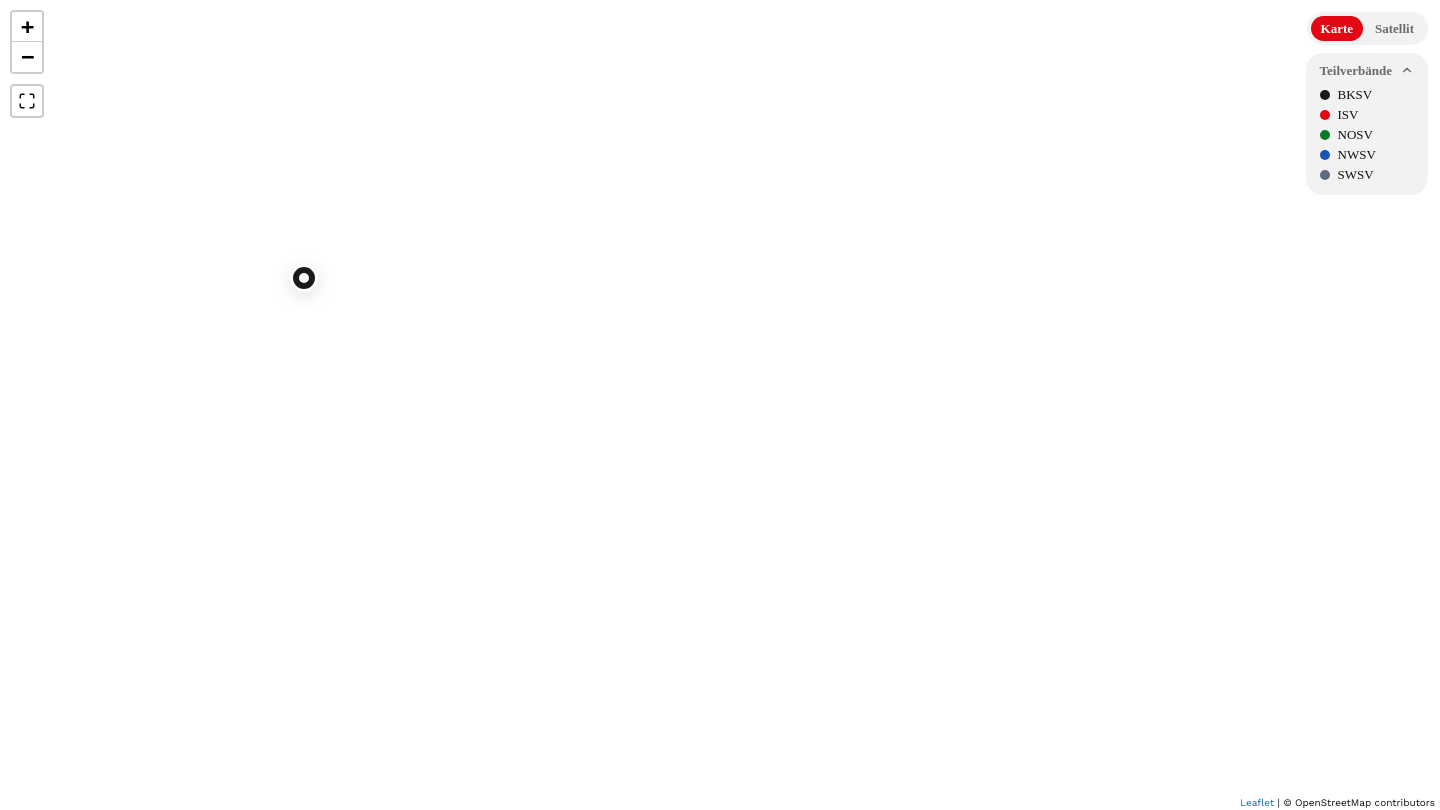
Test case: MapView pin names on hover › shows the name chip on hover where the device can hover
The width and height of the screenshot is (1440, 810).
Hover over the button with class "leaflet-marker-icon" at (304, 278), box x1=290 y1=264 x2=318 y2=292
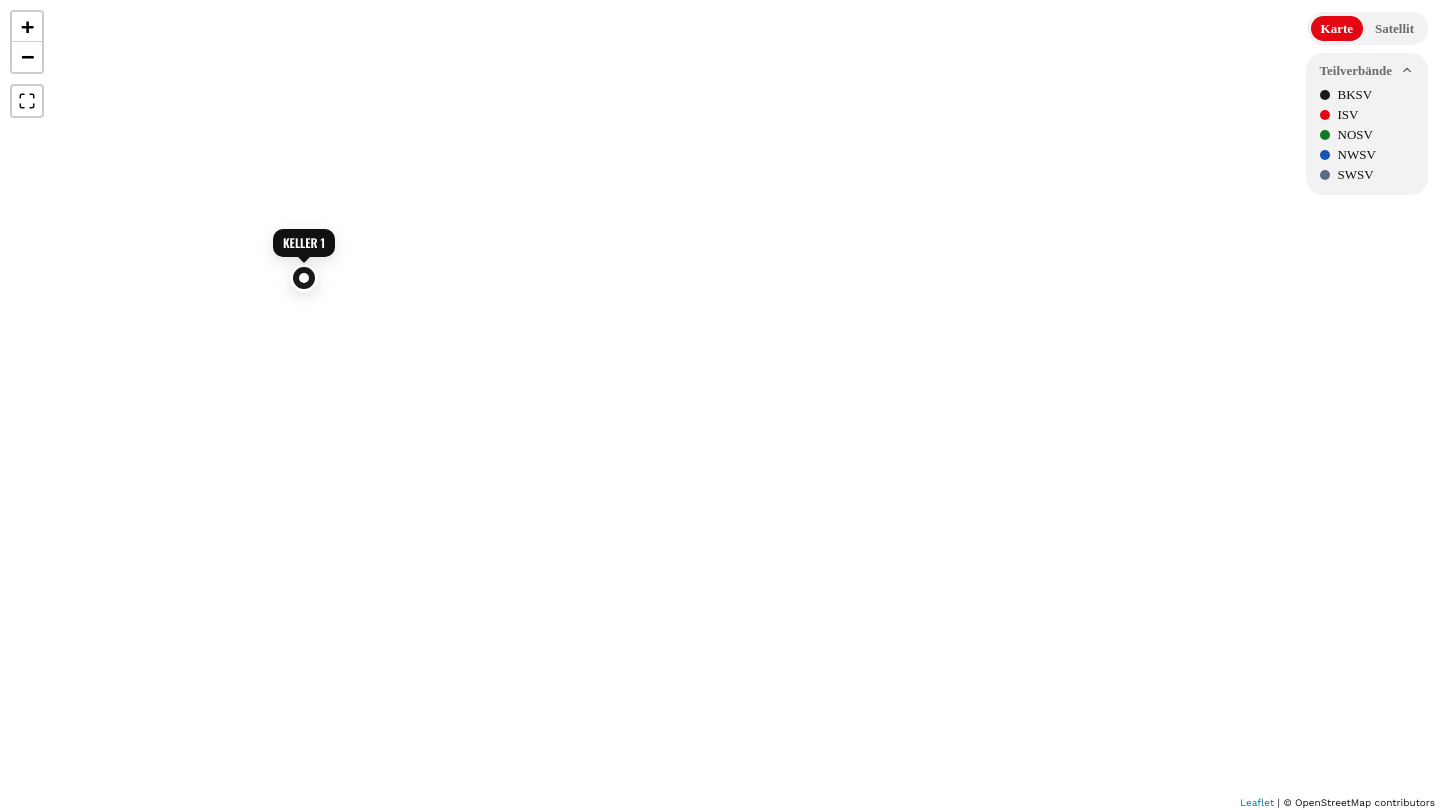
Check: the tooltip with class "leaflet-tooltip" reads "Keller 1", box x1=283 y1=234 x2=325 y2=251
